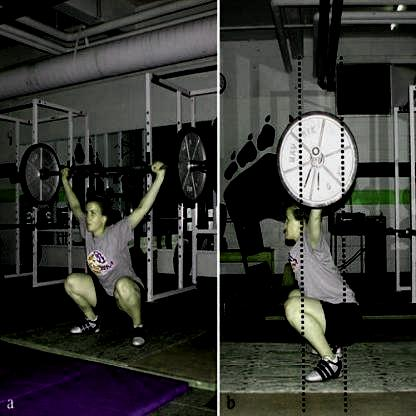Barbell: (310, 144, 325, 163)
